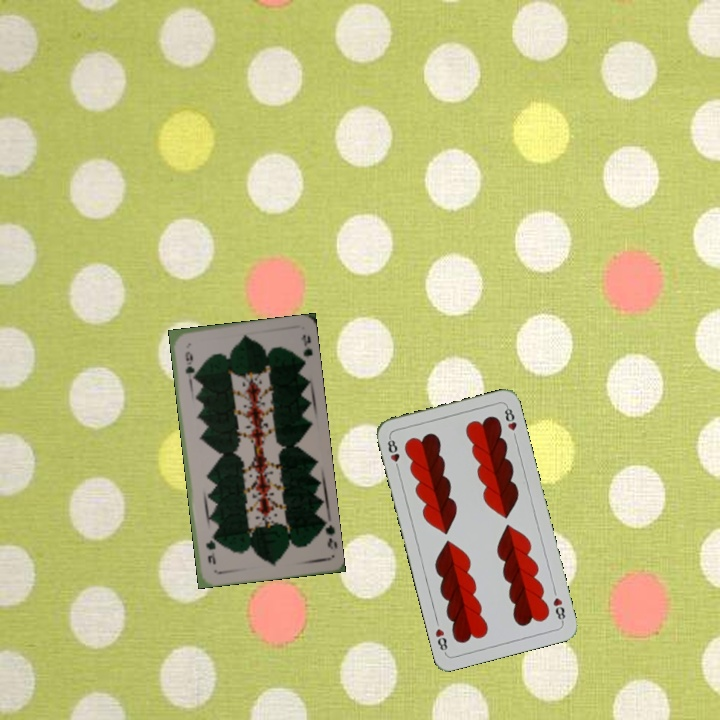G9: (316, 517, 338, 551), (181, 347, 196, 376)
H8: (383, 433, 402, 473), (549, 593, 568, 625)
